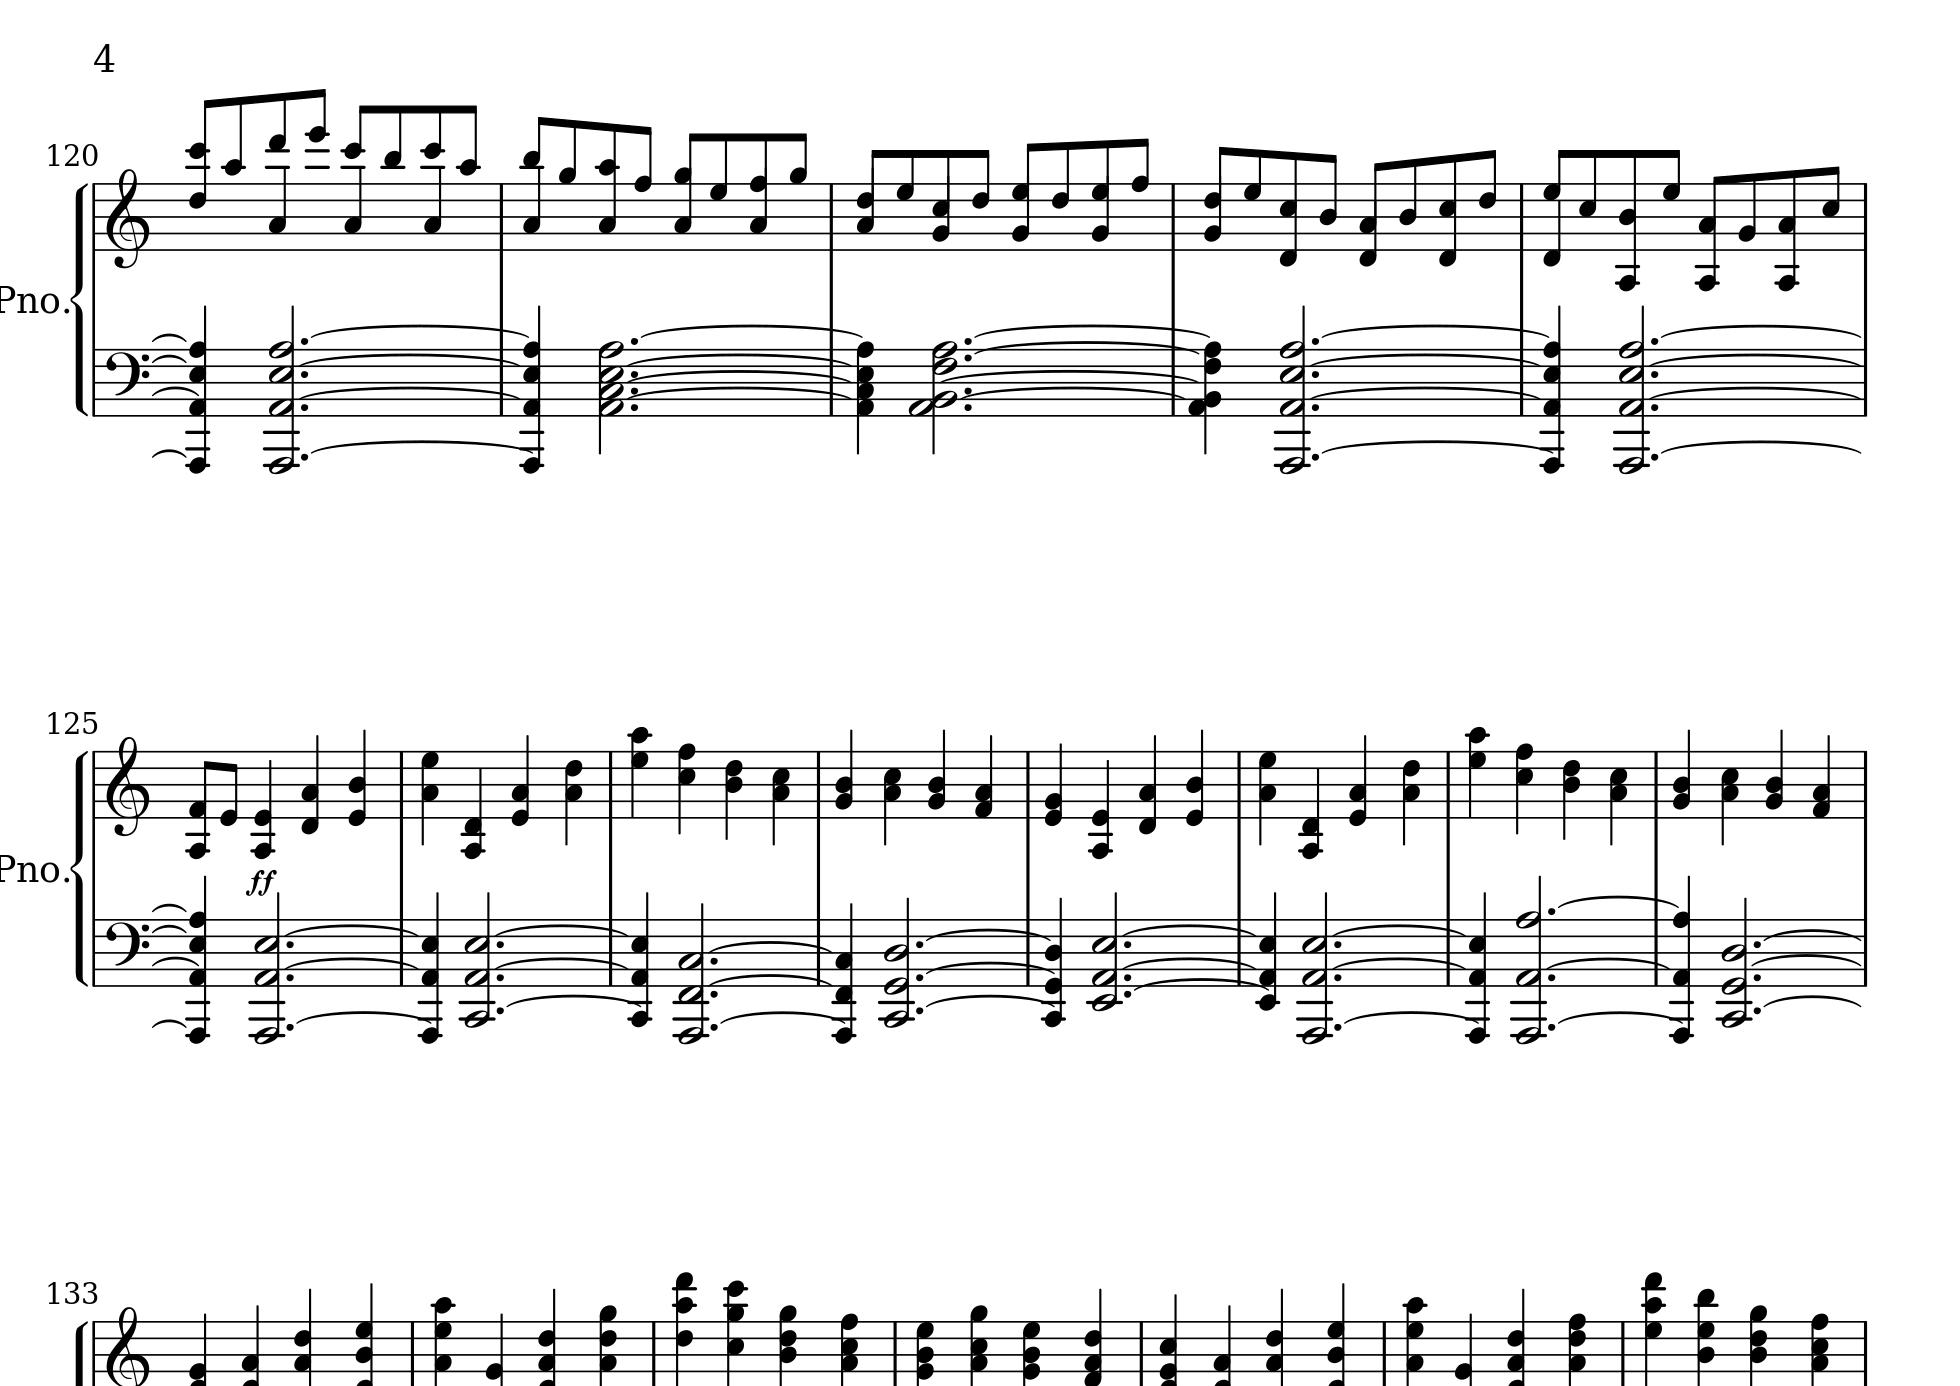0: (81, 139, 97, 168)
1: (46, 141, 61, 168), (46, 709, 60, 736), (46, 1279, 60, 1306)
2: (61, 141, 79, 168), (61, 709, 79, 736)
2_4th: (1614, 306, 1653, 477), (261, 304, 295, 478), (1272, 307, 1308, 472), (909, 339, 955, 454), (595, 336, 625, 456)
2_th: (1506, 874, 1545, 1044), (247, 891, 283, 1045), (459, 889, 493, 1033), (1299, 891, 1330, 1047), (673, 900, 706, 1047), (877, 895, 912, 1033), (1084, 889, 1122, 1015), (1716, 895, 1750, 1030)
3: (81, 1279, 99, 1306), (63, 1279, 79, 1306)
4: (93, 40, 115, 72)
4_-1_3: (300, 735, 322, 835), (1137, 735, 1158, 835)
4_-4_-1: (1297, 748, 1326, 859), (460, 750, 487, 859)
4_-4_0: (250, 750, 277, 861), (1087, 750, 1114, 859)
4_0_2: (1044, 742, 1065, 828)
4_0_3: (510, 735, 532, 828), (1347, 733, 1369, 826)
4_0_4: (346, 729, 369, 829), (1185, 730, 1206, 826)
4_1_3: (1812, 733, 1834, 820), (973, 736, 996, 820)
4_2_4: (1671, 727, 1692, 823), (925, 729, 946, 820), (1764, 729, 1785, 820), (834, 730, 855, 820)
4_3_5: (1608, 750, 1630, 847), (771, 748, 792, 847), (1720, 748, 1741, 844), (883, 750, 903, 846)
4_3_6: (564, 748, 583, 849), (1402, 748, 1422, 849)
4_3_7: (420, 748, 441, 844), (1257, 748, 1278, 844)
4_4_6: (723, 748, 745, 841), (1563, 748, 1582, 841)
4_4th: (186, 304, 210, 474), (1188, 340, 1224, 453), (520, 304, 544, 472), (184, 873, 208, 1041), (1540, 301, 1563, 475), (855, 340, 874, 453)
4_5_8: (676, 742, 697, 835), (1515, 741, 1534, 835)
4_7_10: (625, 724, 654, 820), (1464, 724, 1492, 820)
4_th: (1671, 873, 1693, 1047), (1464, 889, 1488, 1042), (418, 889, 441, 1045), (625, 889, 649, 1030), (1639, 1270, 1668, 1386), (670, 1269, 697, 1386), (1254, 889, 1279, 1009), (1042, 895, 1065, 1029), (721, 1276, 748, 1386), (1401, 1293, 1431, 1386), (1692, 1284, 1719, 1386), (1503, 1287, 1530, 1386), (429, 1294, 457, 1386), (1083, 1287, 1105, 1386), (774, 1302, 799, 1386), (1746, 1300, 1770, 1386), (835, 1309, 861, 1386), (1806, 1309, 1831, 1386), (1564, 1312, 1588, 1386)
5: (81, 708, 99, 736)
8_-1_3: (1359, 162, 1386, 267)
8_-1_5: (1279, 148, 1302, 268), (1437, 153, 1458, 268)
8_-4_1: (183, 750, 211, 861)
8_-4_3: (1692, 175, 1729, 292), (1773, 169, 1803, 292)
8_-4_4: (1615, 148, 1642, 292)
8_0: (219, 748, 240, 829)
8_10: (220, 94, 246, 252), (456, 100, 481, 256)
8_11: (379, 106, 406, 252)
8_14: (303, 90, 328, 252)
8_2: (1737, 171, 1758, 252)
8_2_5: (930, 148, 952, 253)
8_2_6: (1203, 145, 1230, 252)
8_2_7: (1011, 141, 1041, 253), (1092, 139, 1113, 253)
8_3_10: (594, 121, 624, 253)
8_3_6: (856, 148, 882, 250)
8_3_8: (748, 132, 769, 252)
8_3_9: (675, 132, 700, 253)
8_4: (1317, 151, 1339, 253), (1398, 157, 1419, 252)
8_5: (1578, 147, 1599, 252), (1821, 163, 1842, 252)
8_6: (1050, 139, 1074, 253), (970, 147, 993, 253), (1477, 147, 1498, 253)
8_6_10: (186, 97, 220, 253)
8_7: (708, 133, 730, 252), (894, 147, 916, 252), (1242, 147, 1263, 252), (1662, 147, 1683, 250)
8_8: (631, 123, 654, 253), (1129, 136, 1152, 253)
8_9: (556, 118, 579, 250), (787, 130, 808, 253)
Brace: (69, 744, 88, 987), (69, 178, 88, 417)
Fclef: (103, 346, 151, 418), (103, 916, 151, 988)
Gclef: (103, 165, 151, 271), (105, 733, 151, 837)
Pno: (1, 280, 61, 316), (1, 850, 61, 886)
Single_barline: (601, 750, 621, 817), (1440, 750, 1459, 817), (1857, 748, 1875, 819), (1440, 916, 1458, 987), (1857, 348, 1875, 417), (1855, 1321, 1875, 1384), (1020, 750, 1038, 817), (1231, 750, 1249, 817), (1647, 750, 1665, 817), (808, 751, 826, 817), (603, 916, 619, 985), (403, 1321, 421, 1384), (645, 1321, 663, 1384), (886, 1321, 904, 1384), (1614, 1321, 1632, 1384), (1165, 183, 1182, 250), (1021, 918, 1038, 985), (1648, 918, 1665, 985), (1858, 919, 1875, 987), (393, 751, 409, 817), (1231, 918, 1248, 984), (1858, 181, 1873, 252), (1134, 1321, 1150, 1384), (1377, 1321, 1393, 1384), (88, 183, 103, 250), (493, 183, 508, 250), (1515, 183, 1530, 250), (394, 918, 409, 985), (811, 918, 826, 985), (823, 183, 838, 249), (87, 751, 102, 817), (88, 349, 102, 415), (88, 919, 102, 985)
Slur: (945, 367, 1200, 382), (1320, 322, 1551, 339), (307, 438, 532, 454), (1317, 439, 1554, 454), (970, 324, 1222, 337), (307, 322, 534, 337), (1645, 352, 1863, 367), (621, 387, 853, 400), (294, 352, 520, 366), (295, 385, 520, 399), (637, 324, 861, 337), (964, 385, 1185, 399), (1647, 385, 1864, 399), (967, 343, 1204, 355), (1306, 387, 1542, 399), (1306, 352, 1539, 364), (624, 352, 853, 364), (1657, 439, 1861, 453), (628, 370, 852, 382), (1659, 324, 1864, 336), (1545, 955, 1671, 970), (1555, 894, 1677, 909), (1750, 954, 1864, 969), (706, 939, 832, 952), (709, 972, 831, 985), (718, 1009, 840, 1023), (1557, 1009, 1678, 1023), (1761, 927, 1863, 940), (1761, 994, 1863, 1006), (151, 384, 198, 397), (151, 955, 199, 967), (148, 352, 189, 364), (151, 331, 187, 343), (151, 901, 187, 913), (148, 922, 187, 933), (151, 447, 186, 457), (151, 1018, 187, 1027)
dot: (1545, 904, 1558, 918), (1750, 970, 1764, 984), (961, 396, 973, 411), (297, 334, 310, 346), (1308, 334, 1321, 346), (625, 367, 639, 379), (627, 400, 640, 412), (1309, 400, 1321, 414), (493, 936, 505, 949), (913, 936, 925, 949), (1332, 936, 1344, 949), (708, 954, 720, 967), (1122, 970, 1134, 984), (1332, 1020, 1344, 1033), (1647, 334, 1659, 346), (961, 336, 973, 348), (298, 367, 310, 379), (961, 387, 973, 399), (298, 400, 310, 412), (1122, 937, 1134, 949), (913, 970, 925, 982), (1546, 970, 1558, 982), (1332, 970, 1344, 982), (1122, 987, 1134, 999), (1752, 1003, 1764, 1015), (493, 1003, 505, 1015), (913, 1003, 925, 1015), (283, 1021, 295, 1033), (1545, 1021, 1557, 1033), (627, 336, 640, 346), (1752, 936, 1762, 949), (961, 352, 973, 363), (1650, 367, 1660, 379), (1650, 400, 1660, 412), (1650, 450, 1660, 462), (298, 451, 309, 463), (283, 937, 294, 949), (285, 970, 295, 982), (495, 970, 505, 982), (708, 1021, 718, 1033), (1311, 450, 1320, 463), (1311, 367, 1320, 379), (709, 987, 718, 999)
ff: (244, 865, 277, 898)
